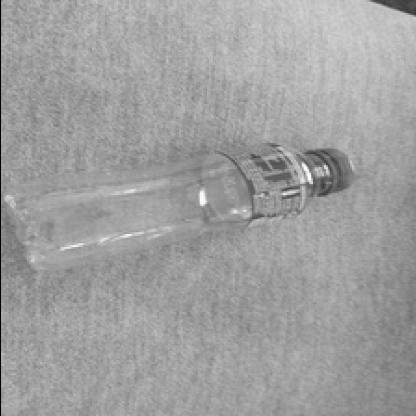plastic_bottles: (0, 142, 358, 273)
